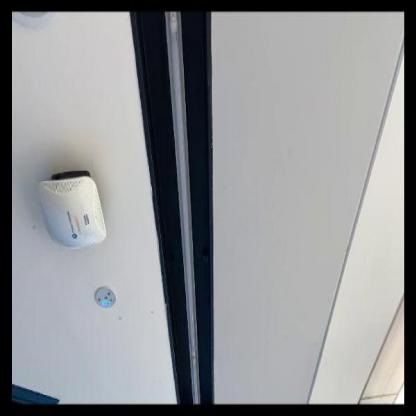light_off: (159, 15, 205, 404)
